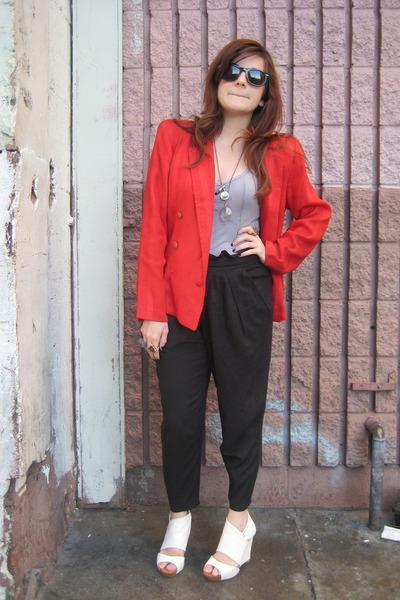jacket: (136, 117, 330, 323)
pants: (153, 252, 275, 512)
shirt: (210, 166, 258, 255)
shoe: (157, 516, 255, 579)
